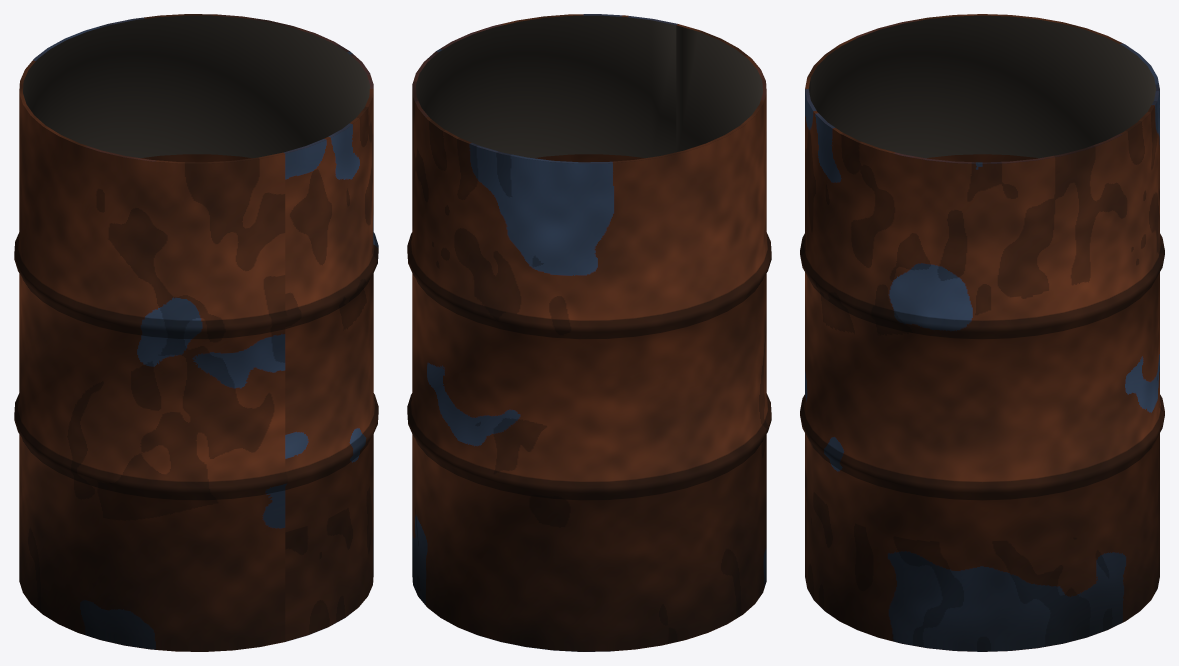
File: weathered.glb
The picture shows the model from 3 angles, left to right: view 1: azimuth 30°, elevation 25°; view 2: azimuth 150°, elevation 25°; view 3: azimuth 270°, elevation 25°; orthographic projection.
Parts seen in each view (by area): view 1: BurnBarrel; view 2: BurnBarrel; view 3: BurnBarrel.
Part boxes in pixels (left/top/right/bottom): BurnBarrel: left=14, top=14, right=378, bottom=651; BurnBarrel: left=407, top=14, right=771, bottom=651; BurnBarrel: left=800, top=14, right=1164, bottom=651.
Size of the model in its own units: 0.596 by 0.88 by 0.596.
19 materials, 16 textured.
